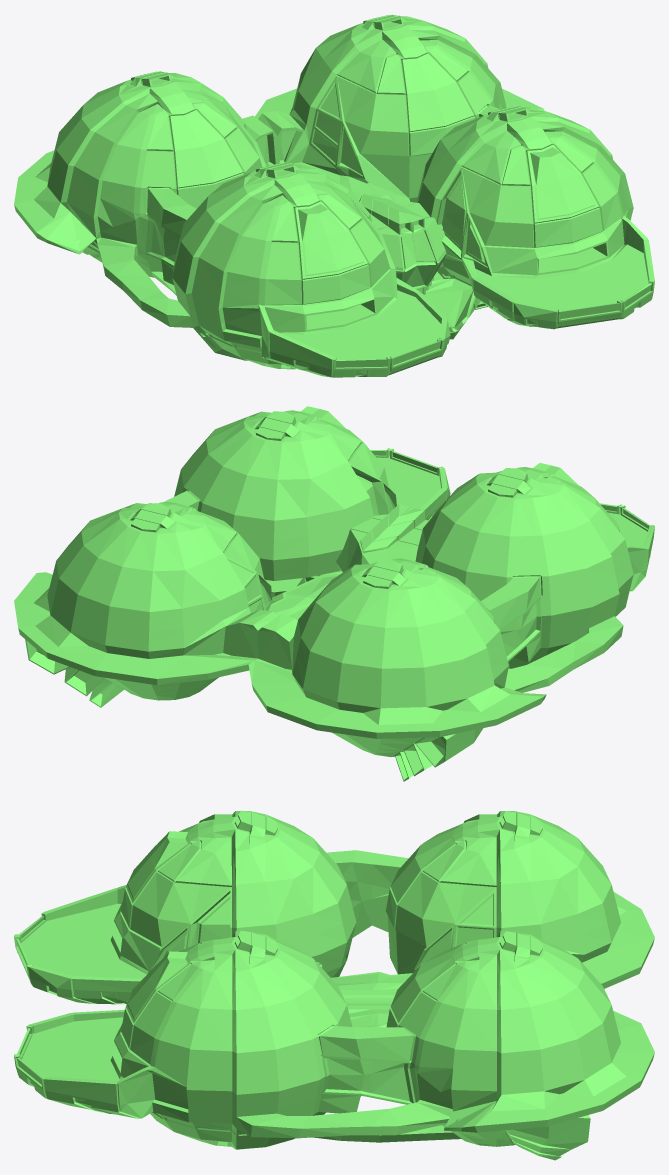
The model's file is New Collider.fbx.
3 views of the same model, one above another, from view 1: azimuth 30°, elevation 25°; view 2: azimuth 150°, elevation 25°; view 3: azimuth 270°, elevation 25° (orthographic). The views are drawn at different scales.
Parts seen in each view (by area): view 1: Sphere005; view 2: Sphere005; view 3: Sphere005.
Boxes of the visible parts, x1,y1,x2,y2 form: Sphere005: (14, 14, 654, 377); Sphere005: (14, 406, 654, 781); Sphere005: (14, 810, 654, 1160).
Size of the model in its own units: 1003 by 369 by 1035.
